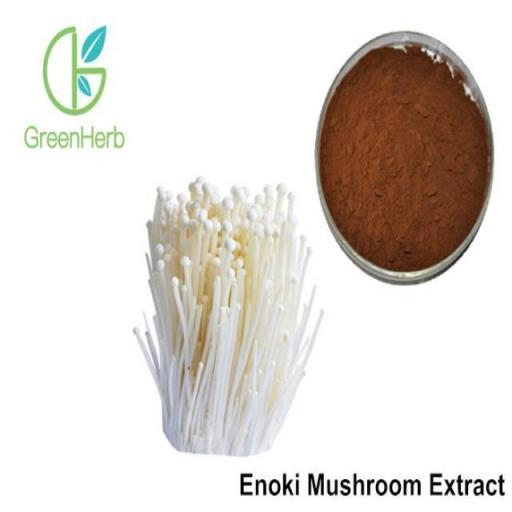Enoki Mushroom: (134, 177, 324, 455)
